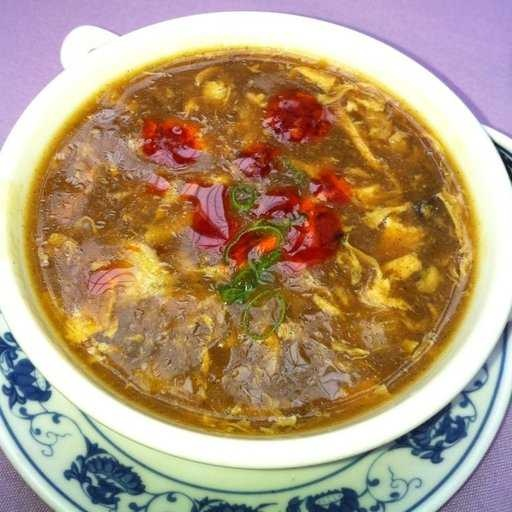soup: (18, 63, 473, 441)
